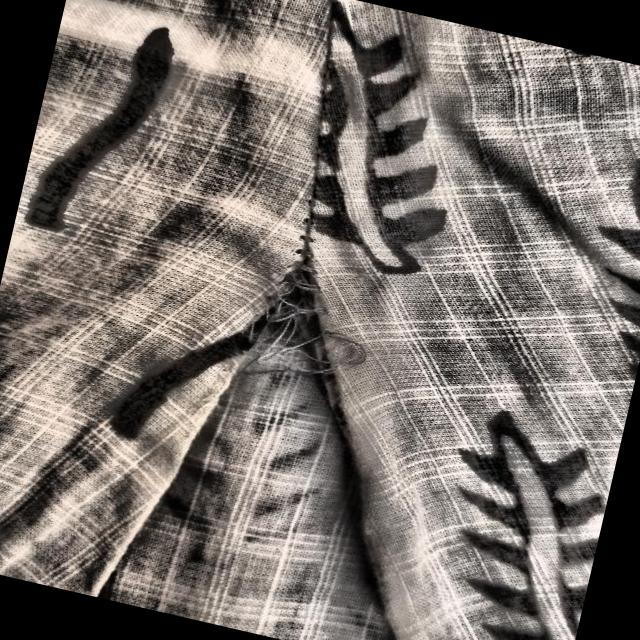gray stitch: (191, 220, 490, 502)
